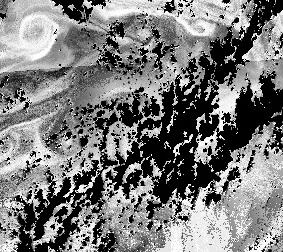CE: (14, 13, 61, 53)
